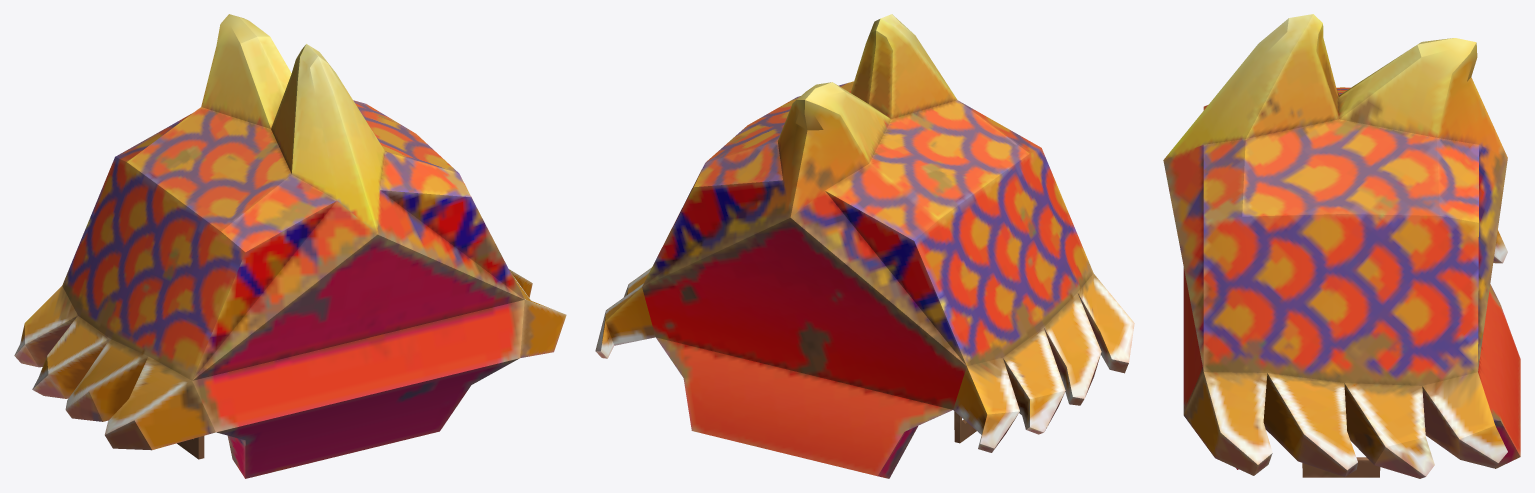
The model's file is item_cardboard_dragon_body.glb.
3 views of the same model, side by side, from view 1: azimuth 30°, elevation 25°; view 2: azimuth 150°, elevation 25°; view 3: azimuth 270°, elevation 25° (orthographic). The views are drawn at different scales.
Parts seen in each view (by area): view 1: cardboardBoxDragonBody; view 2: cardboardBoxDragonBody; view 3: cardboardBoxDragonBody.
Part boxes in pixels (<box>): cardboardBoxDragonBody: <box>14,14,566,478</box>; cardboardBoxDragonBody: <box>595,14,1134,478</box>; cardboardBoxDragonBody: <box>1163,14,1520,478</box>.
Size of the model in its own units: 2.46 by 1.99 by 1.58.
Materials: 1 (1 with a texture image).
